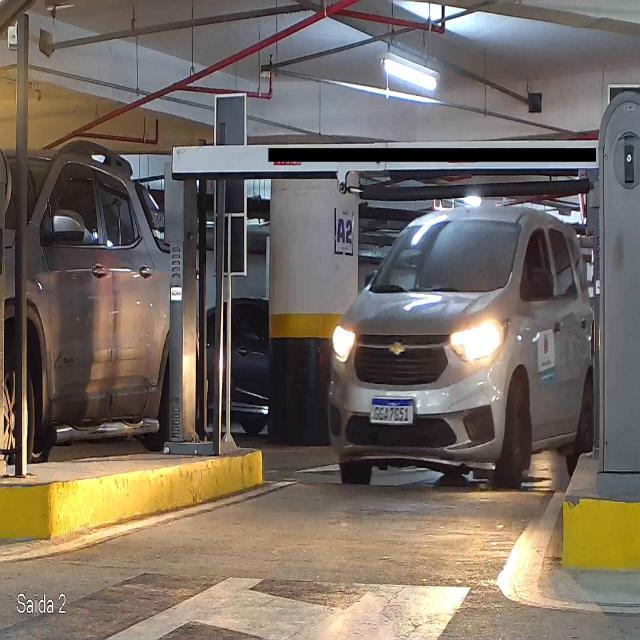mercosul_plate: (368, 397, 416, 426)
